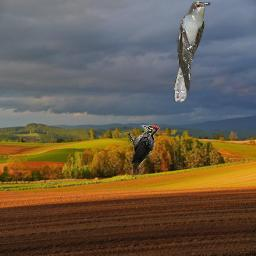Cuckoo: (173, 0, 211, 102)
Woodpecker: (128, 125, 160, 177)
